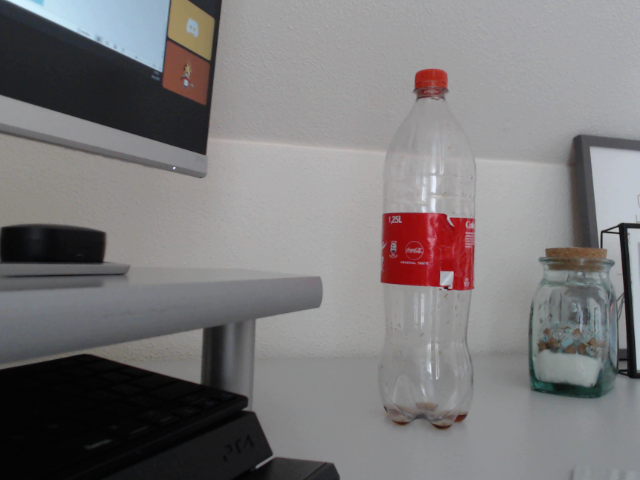bottle: (380, 67, 478, 431)
